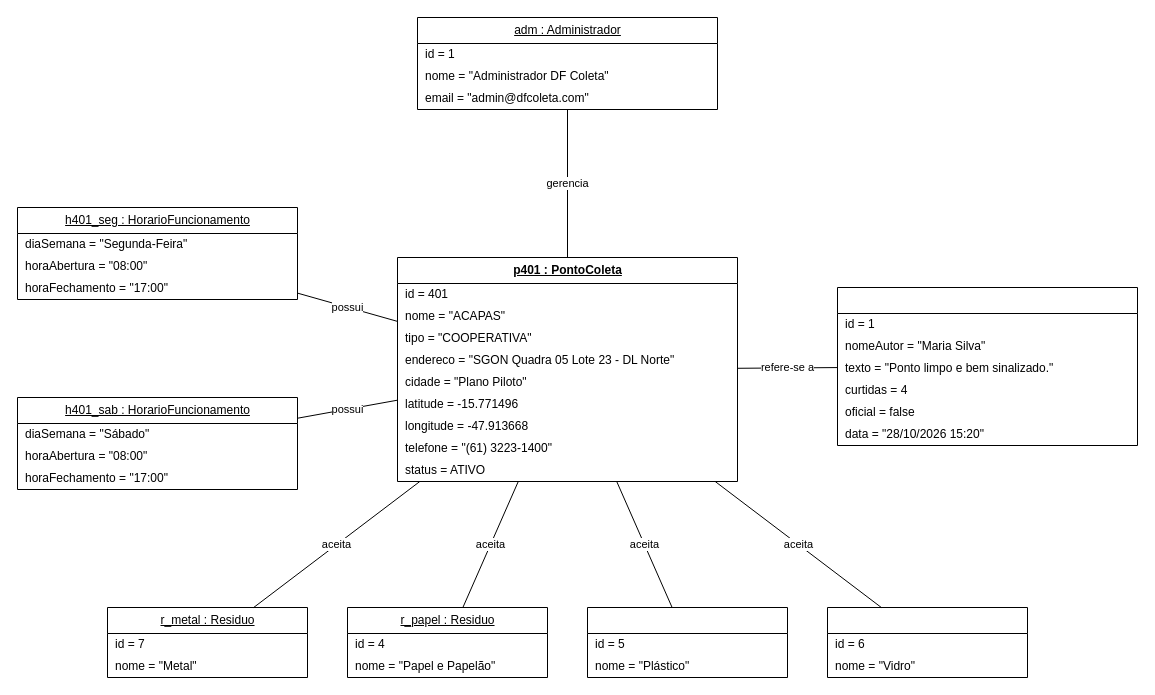
The diagram is 1155 pixels wide and 695 high, and some of its shapes have lost their labels. Each missing label, with the box of its shape:
c1 : Comentario: (836, 286, 1138, 446)
r_plastico : Residuo: (586, 606, 788, 678)
r_vidro : Residuo: (826, 606, 1028, 678)
